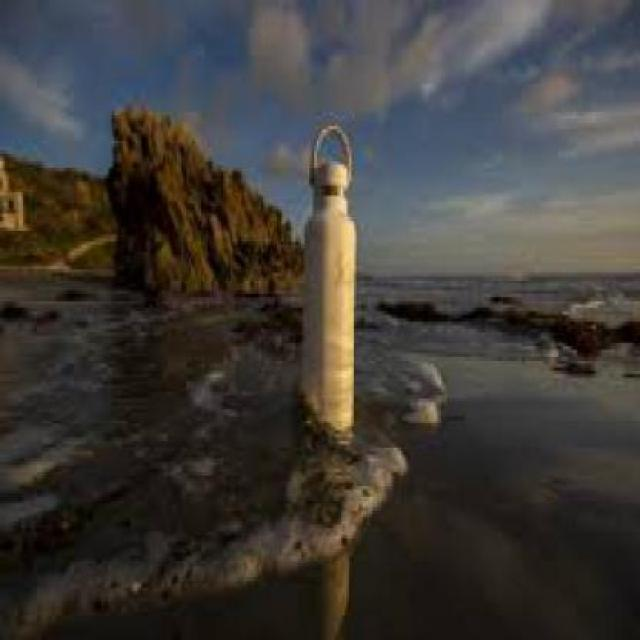Drinking: (296, 111, 362, 444)
